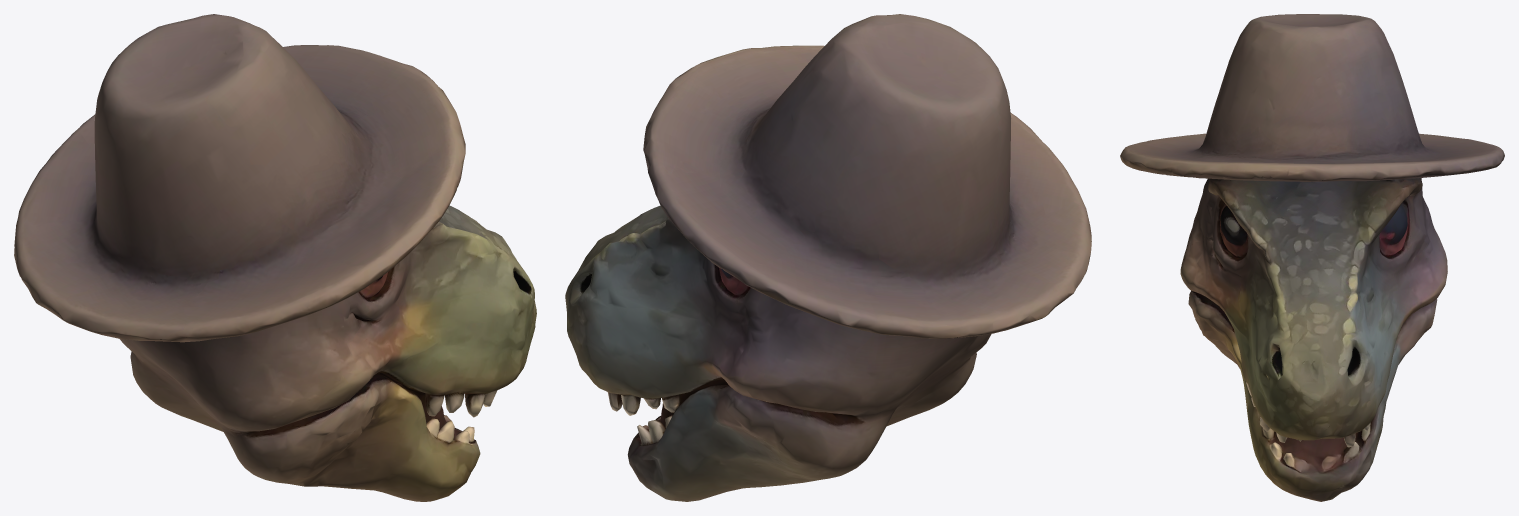
The model's file is head.glb.
3 renders of one model, left to right at view 1: azimuth 30°, elevation 25°; view 2: azimuth 150°, elevation 25°; view 3: azimuth 270°, elevation 25°, orthographic. The views are drawn at different scales.
Visible parts, largest first — view 1: tripo_node_63f1c589-c80f-42a0-b7b4-27a1eaa837e7; view 2: tripo_node_63f1c589-c80f-42a0-b7b4-27a1eaa837e7; view 3: tripo_node_63f1c589-c80f-42a0-b7b4-27a1eaa837e7.
Part boxes in pixels (x1,y1,x2,y2): tripo_node_63f1c589-c80f-42a0-b7b4-27a1eaa837e7: [14, 14, 536, 501]; tripo_node_63f1c589-c80f-42a0-b7b4-27a1eaa837e7: [565, 14, 1091, 501]; tripo_node_63f1c589-c80f-42a0-b7b4-27a1eaa837e7: [1120, 14, 1504, 501].
Bounding box in the file's own units: 0.9974 × 1 × 0.8676.
1 material, 1 textured.
